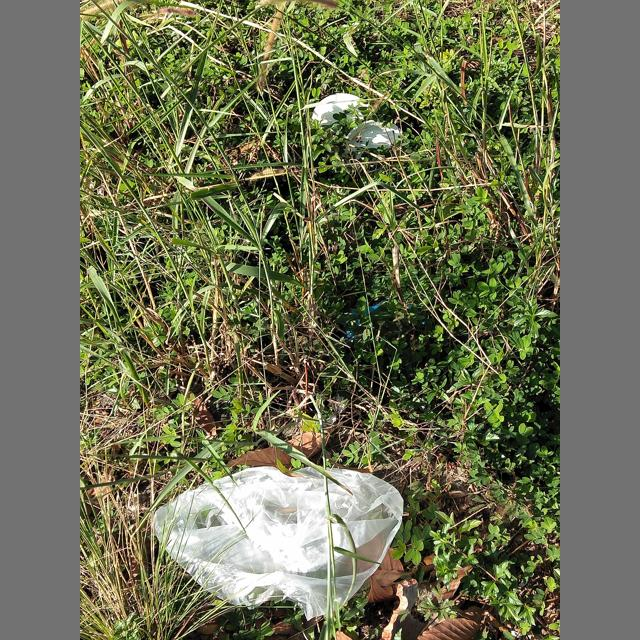litter: (154, 466, 404, 621), (343, 120, 402, 159), (311, 94, 360, 125), (345, 304, 384, 340)
